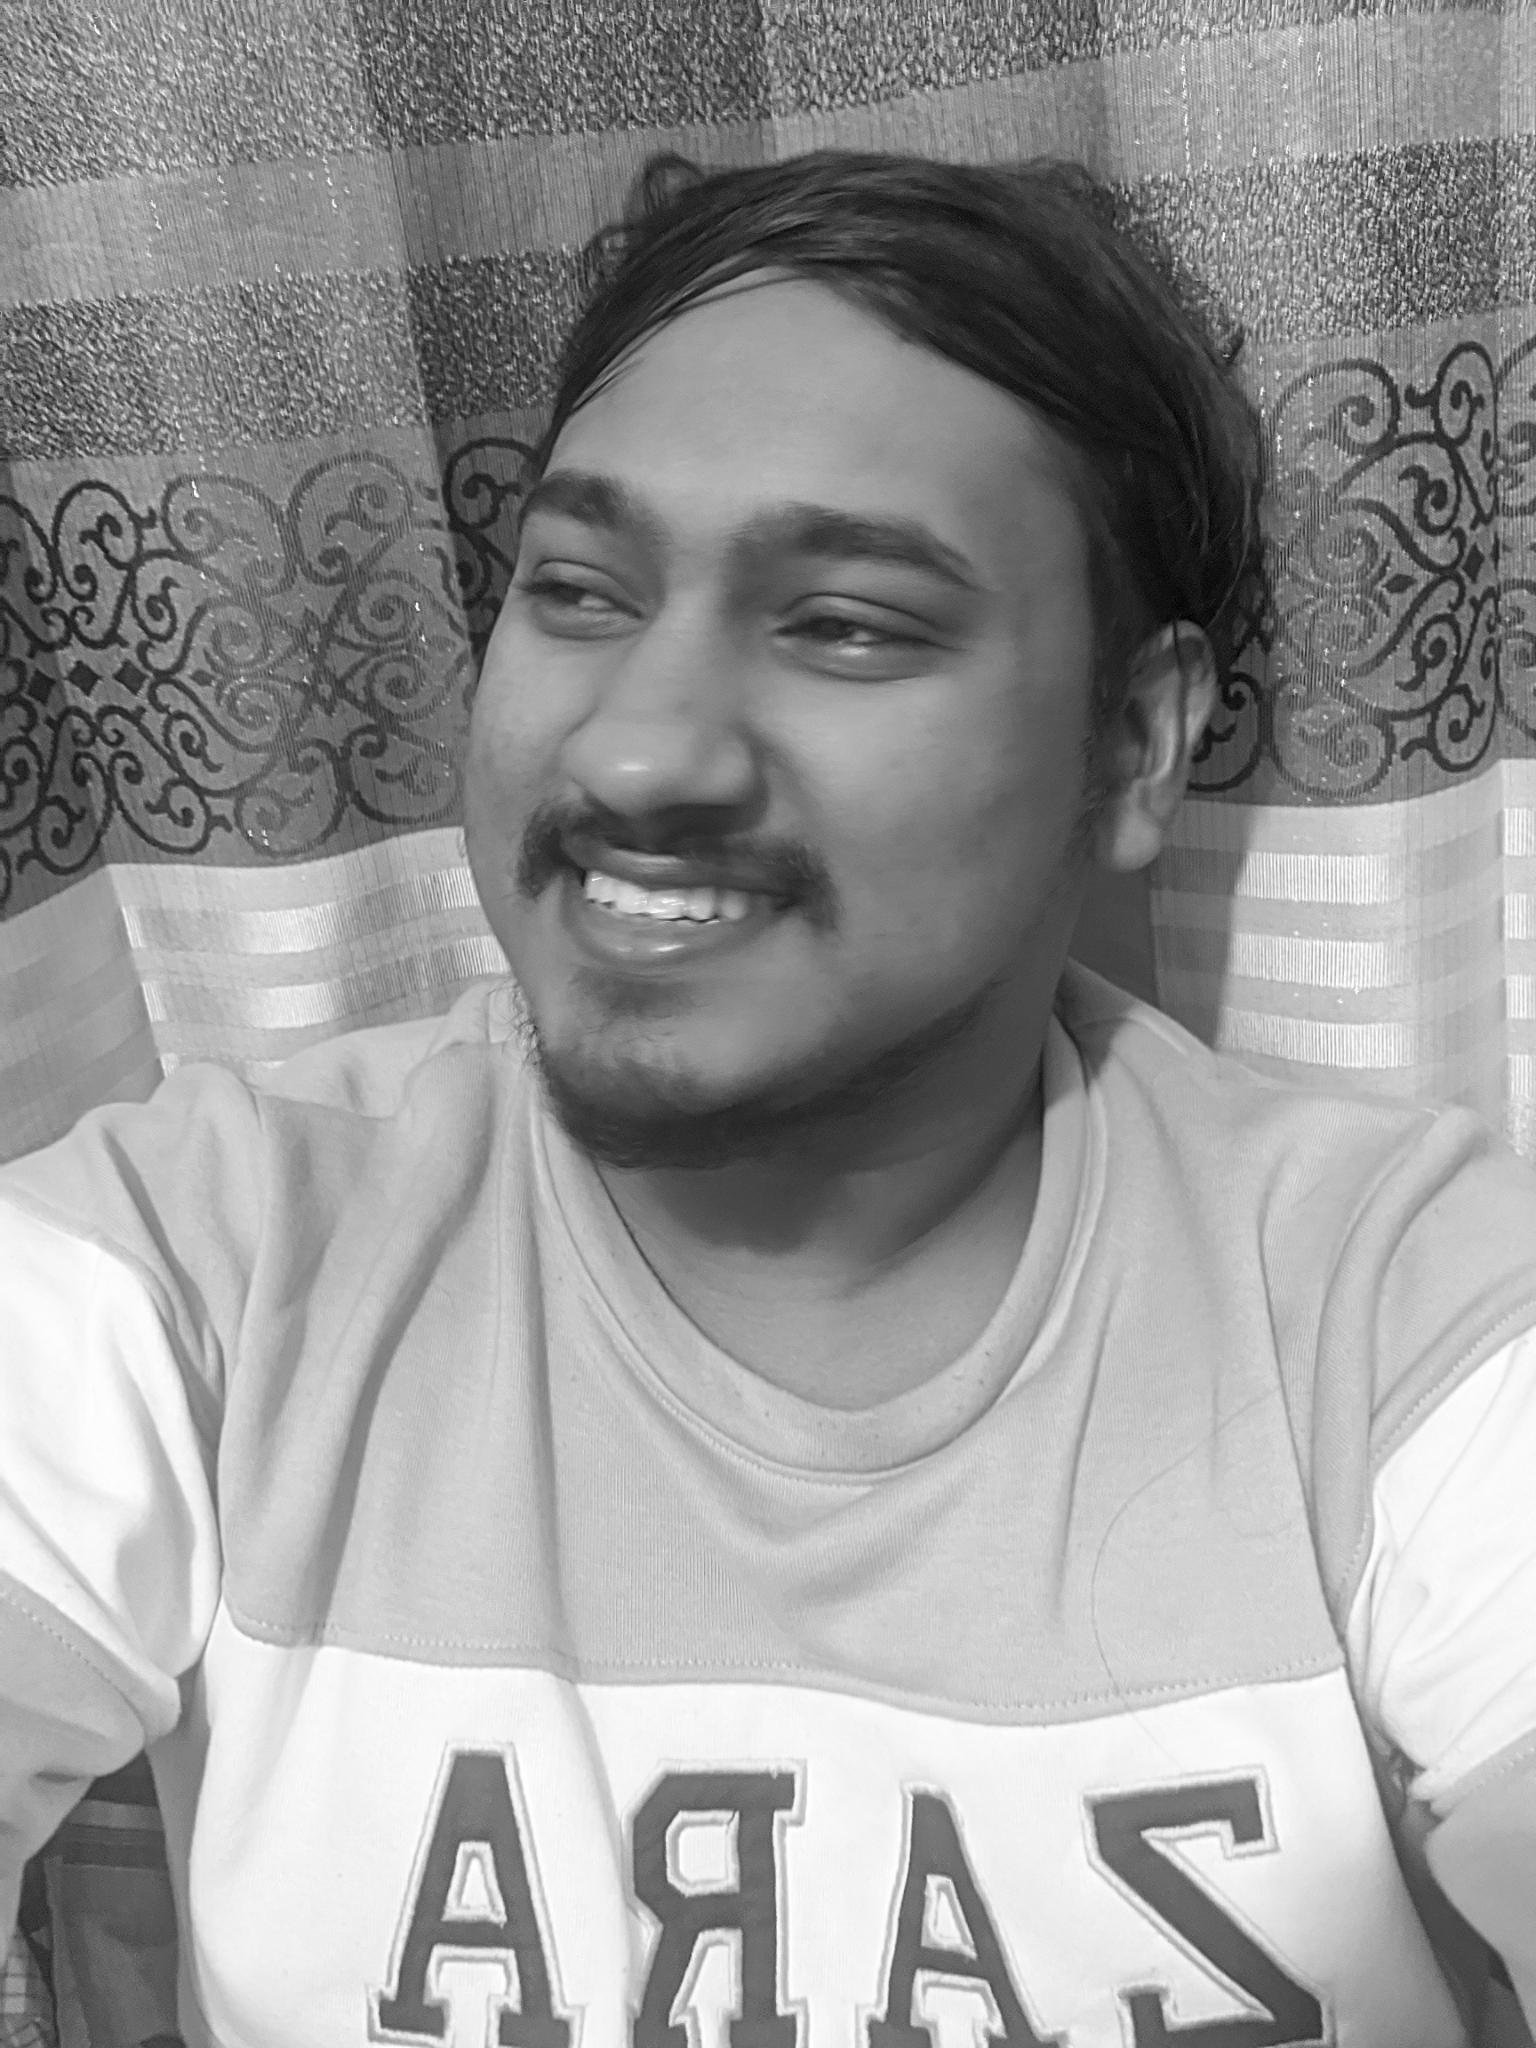Happy: (423, 387, 1016, 1169)
